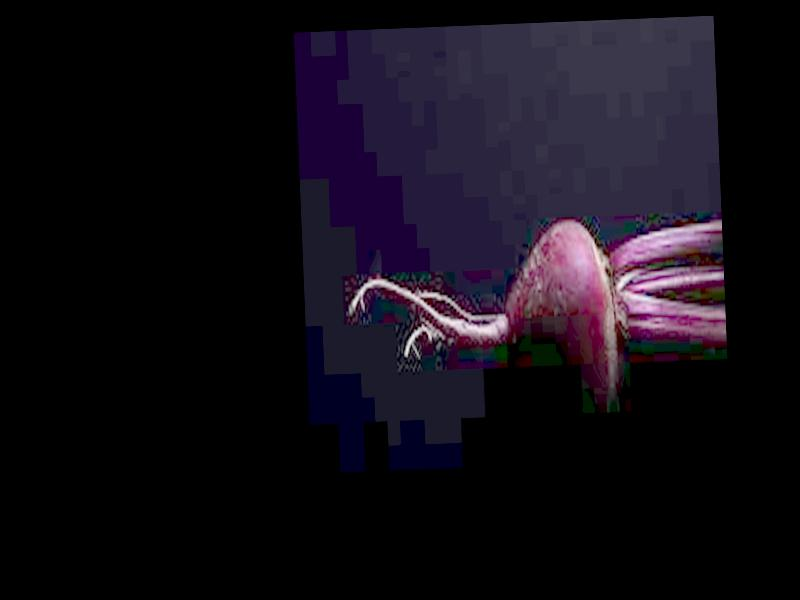Beet: (345, 202, 727, 422)
